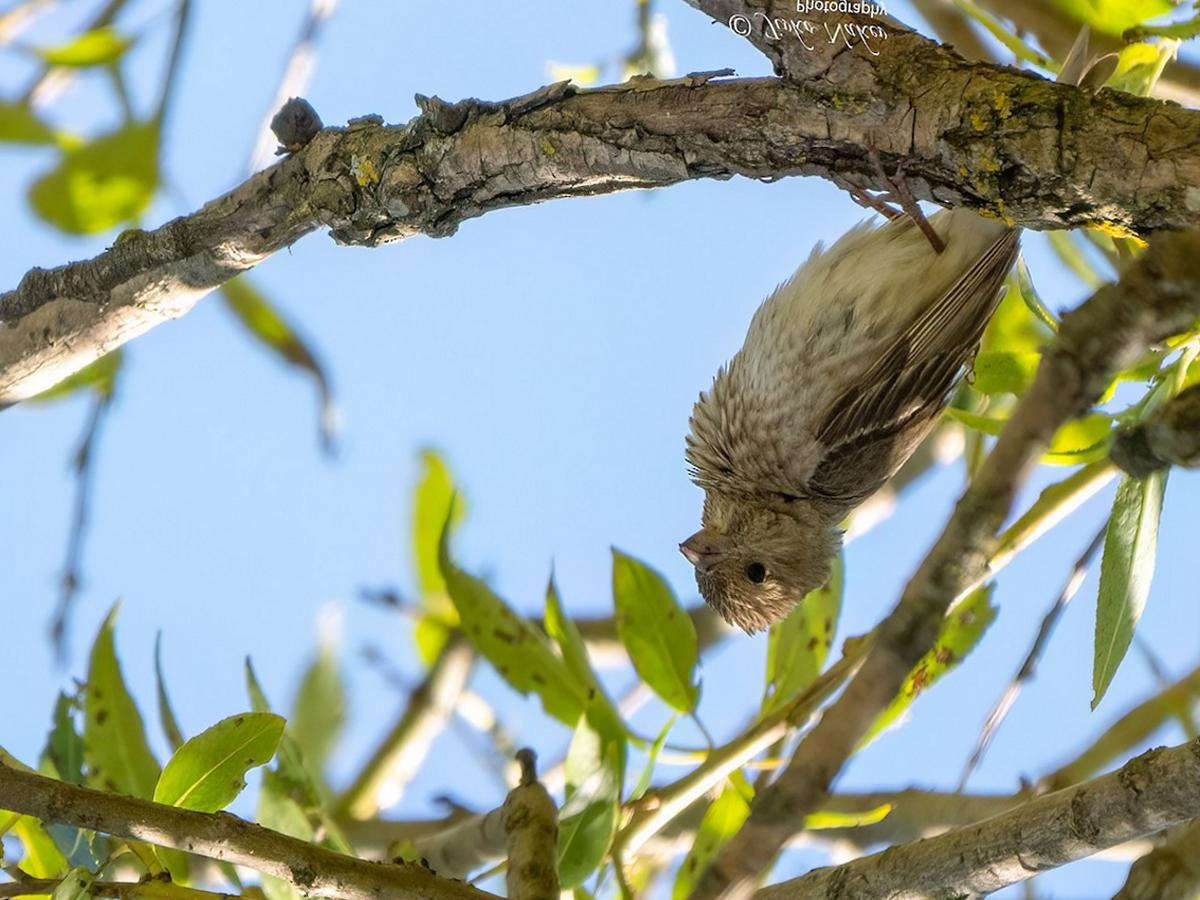rosefinch: (677, 185, 1050, 623)
